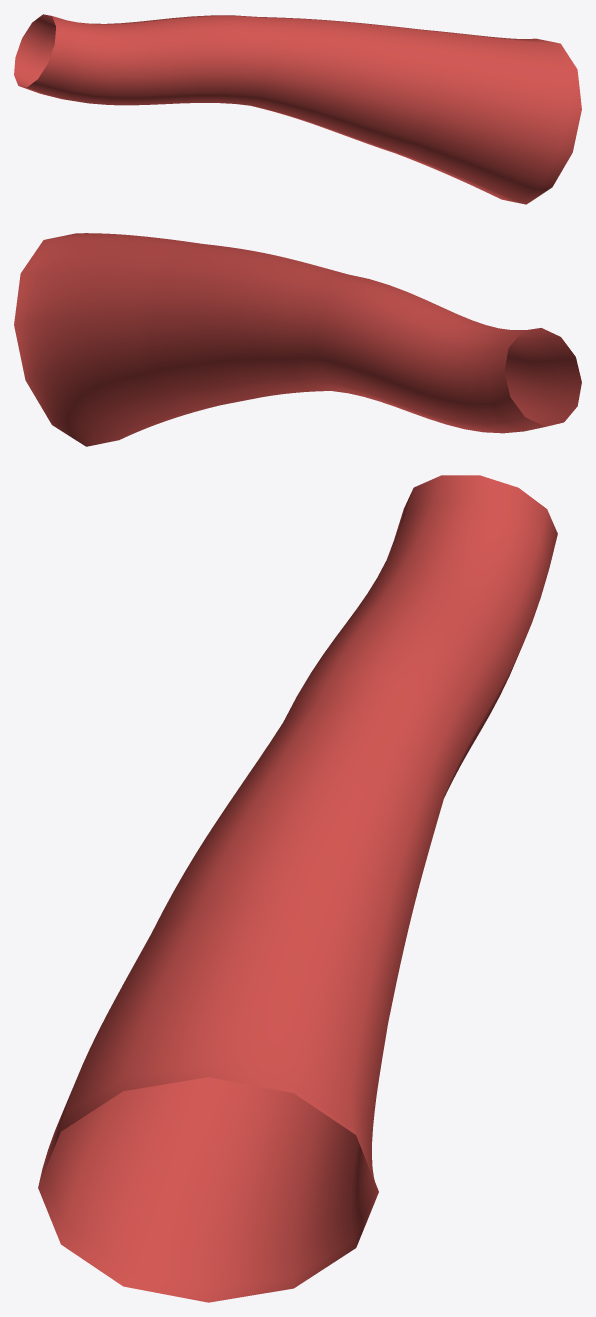
The picture shows the model from 3 angles, top to bottom: view 1: azimuth 30°, elevation 25°; view 2: azimuth 150°, elevation 25°; view 3: azimuth 270°, elevation 25°; orthographic projection. The views are drawn at different scales.
Parts seen in each view (by area): view 1: 右肾动脉; view 2: 右肾动脉; view 3: 右肾动脉.
Part boxes in pixels (box(x1,y1,x2,y2)): 右肾动脉: box(14, 14, 581, 204); 右肾动脉: box(14, 233, 581, 446); 右肾动脉: box(38, 475, 557, 1302).
Size of the model in its own units: 0.0616 by 0.0282 by 0.0292.
